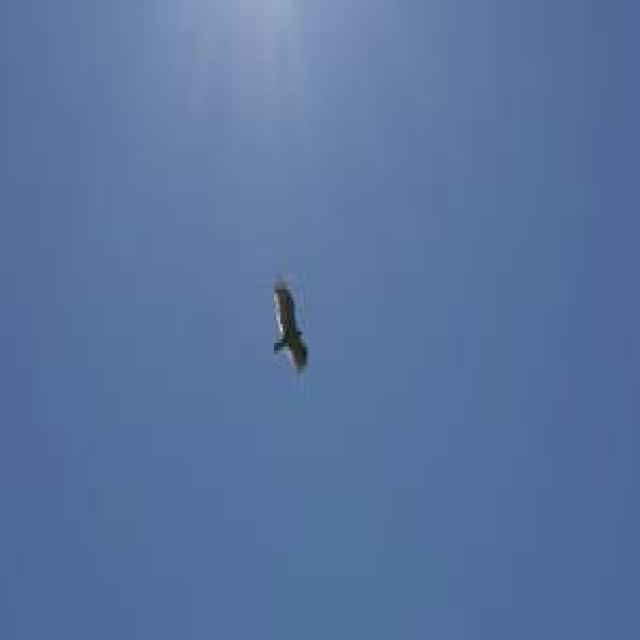bird: (270, 271, 312, 377)
